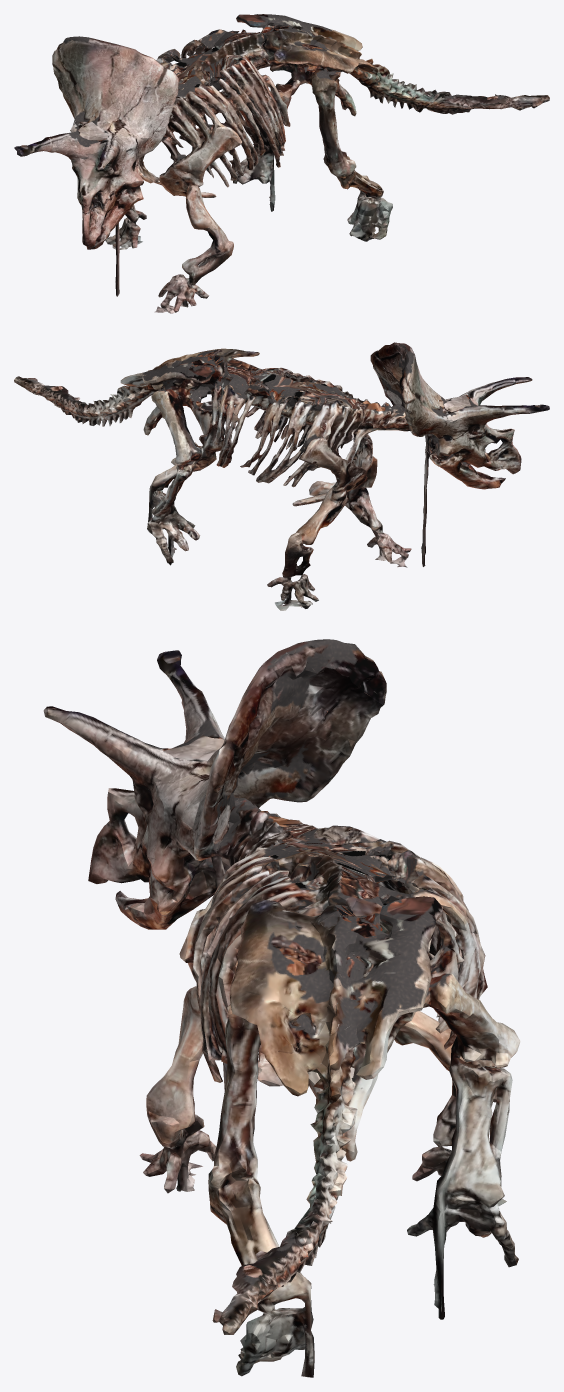
File: triceratops.glb
3 views of the same model, one above another, from view 1: azimuth 30°, elevation 25°; view 2: azimuth 150°, elevation 25°; view 3: azimuth 270°, elevation 25° (orthographic). The views are drawn at different scales.
Visible parts, largest first — view 1: #Triceratops; view 2: #Triceratops; view 3: #Triceratops.
Boxes of the visible parts, x1,y1,x2,y2 form: #Triceratops: (14,14,549,313); #Triceratops: (14,342,549,610); #Triceratops: (43,639,520,1377).
Bounding box in the file's own units: 3.97 × 1.79 × 1.58.
Materials: 1 (1 with a texture image).
